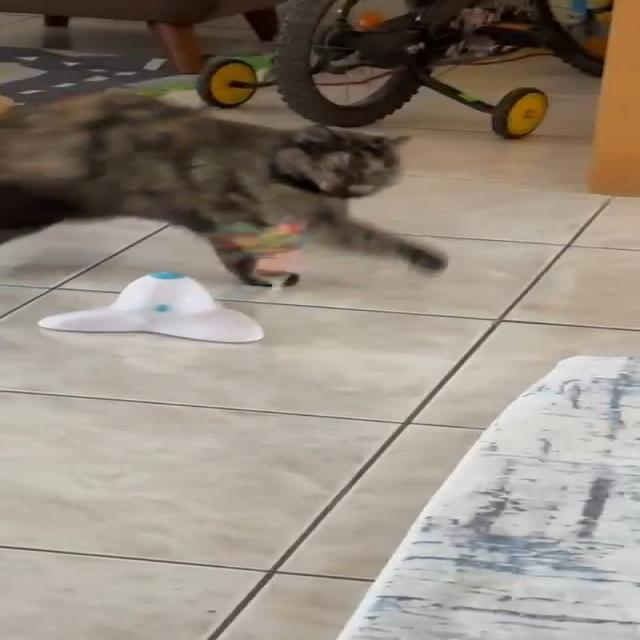authorized: (0, 89, 449, 288)
